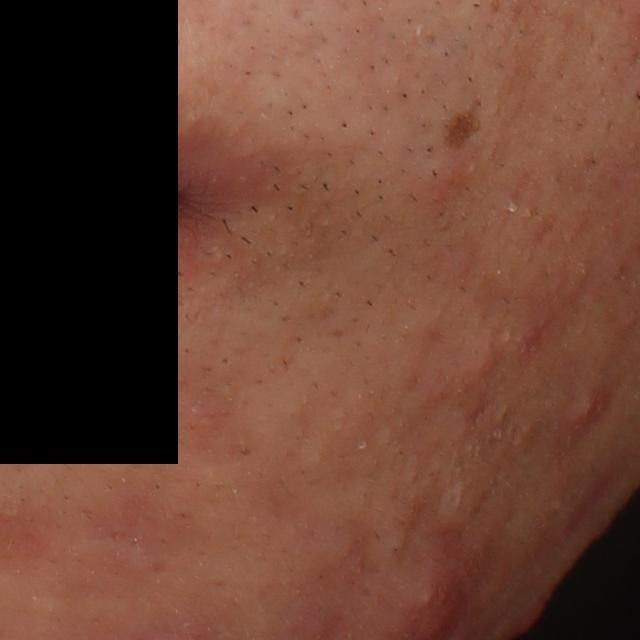nevus: (431, 104, 485, 155)
papule: (416, 160, 464, 211), (508, 590, 553, 640), (467, 346, 499, 386)
